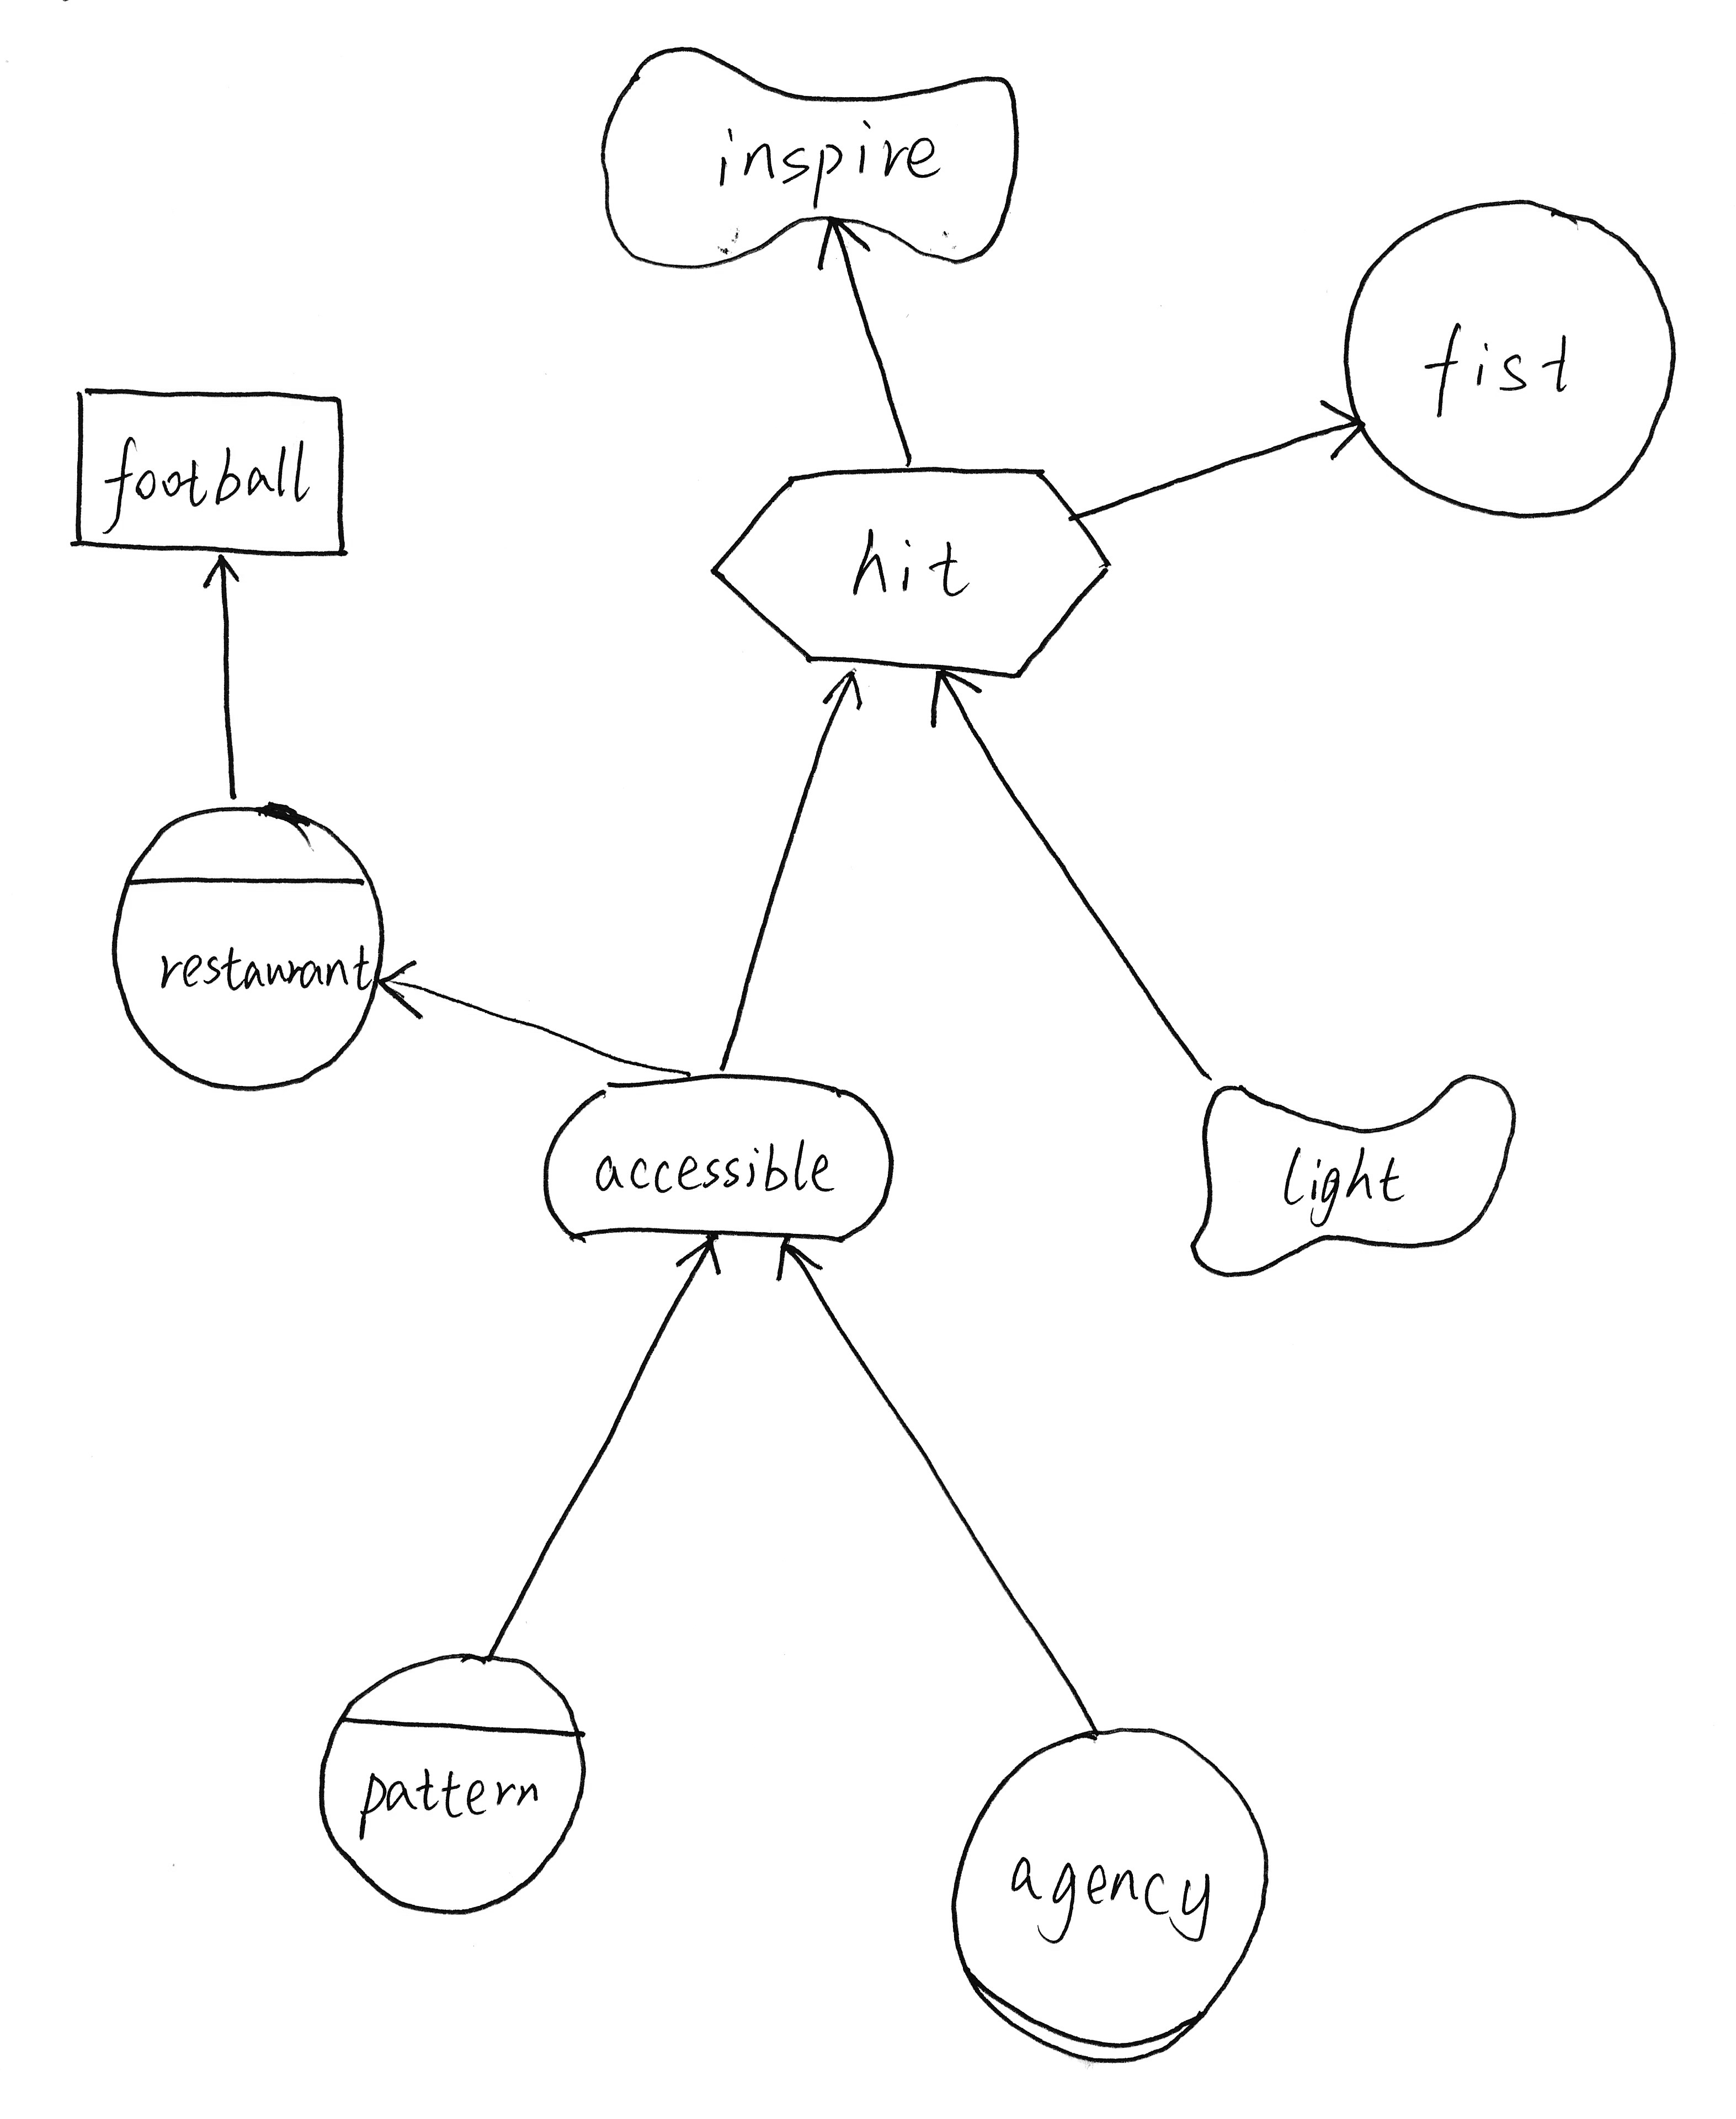actor: (1328, 181, 1696, 535)
agent: (93, 785, 405, 1112), (299, 1630, 611, 1931)
arrow: (799, 206, 886, 287), (916, 653, 997, 737), (762, 1218, 838, 1299), (1312, 385, 1377, 477), (671, 1216, 736, 1288), (815, 653, 875, 730), (366, 950, 430, 1023), (190, 542, 250, 609)
goal: (525, 1056, 914, 1272)
quality: (583, 30, 1048, 283), (1174, 1065, 1530, 1288)
resource: (56, 368, 370, 581)
role: (930, 1705, 1291, 2075)
task: (701, 451, 1132, 700)
